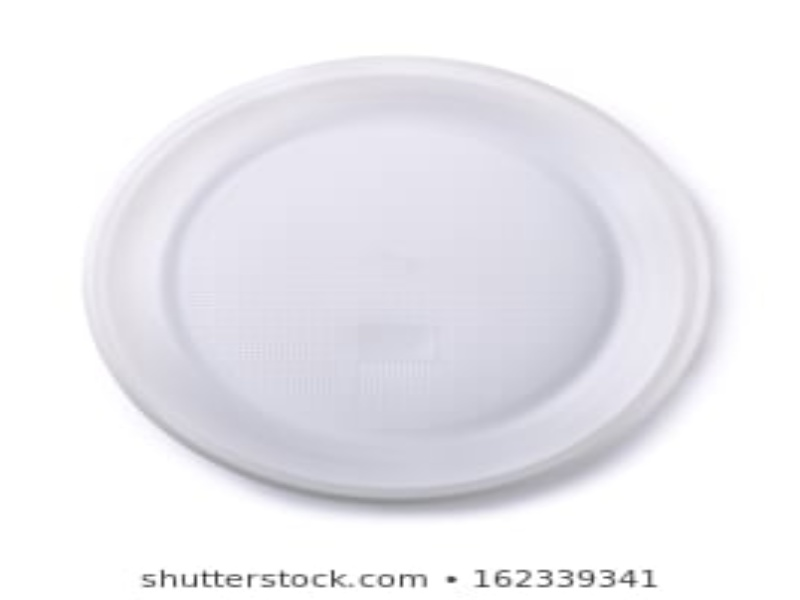plastic-plate: (79, 52, 722, 503)
